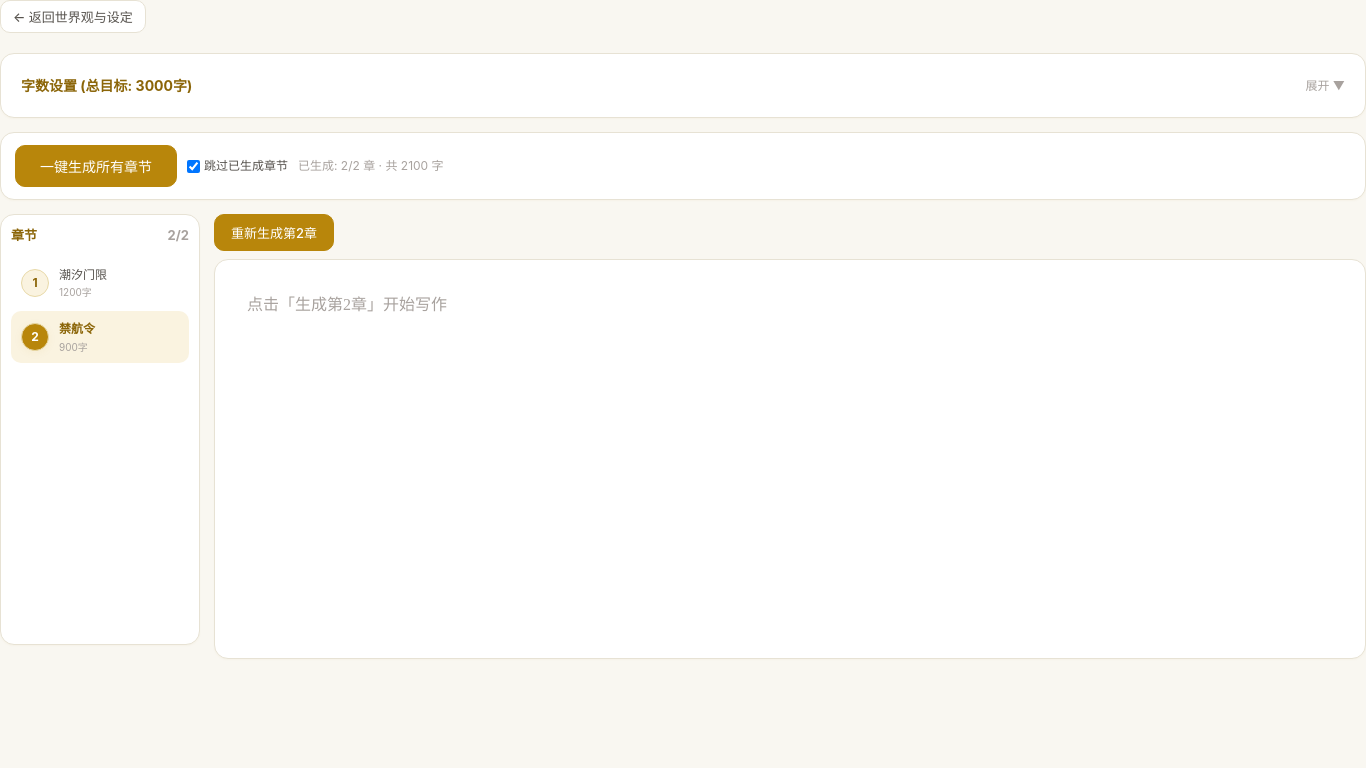
Scenario: ChapterWriter legacy compatibility characterization › drops a late chapter detail response after a newer chapter selection
This screenshot has width=1366, height=768.
Check: the text "禁航令" is shown, box x1=59 y1=321 x2=95 y2=336
Click the text "潮汐门限": coordinates (83, 274) x1=59 y1=266 x2=107 y2=282
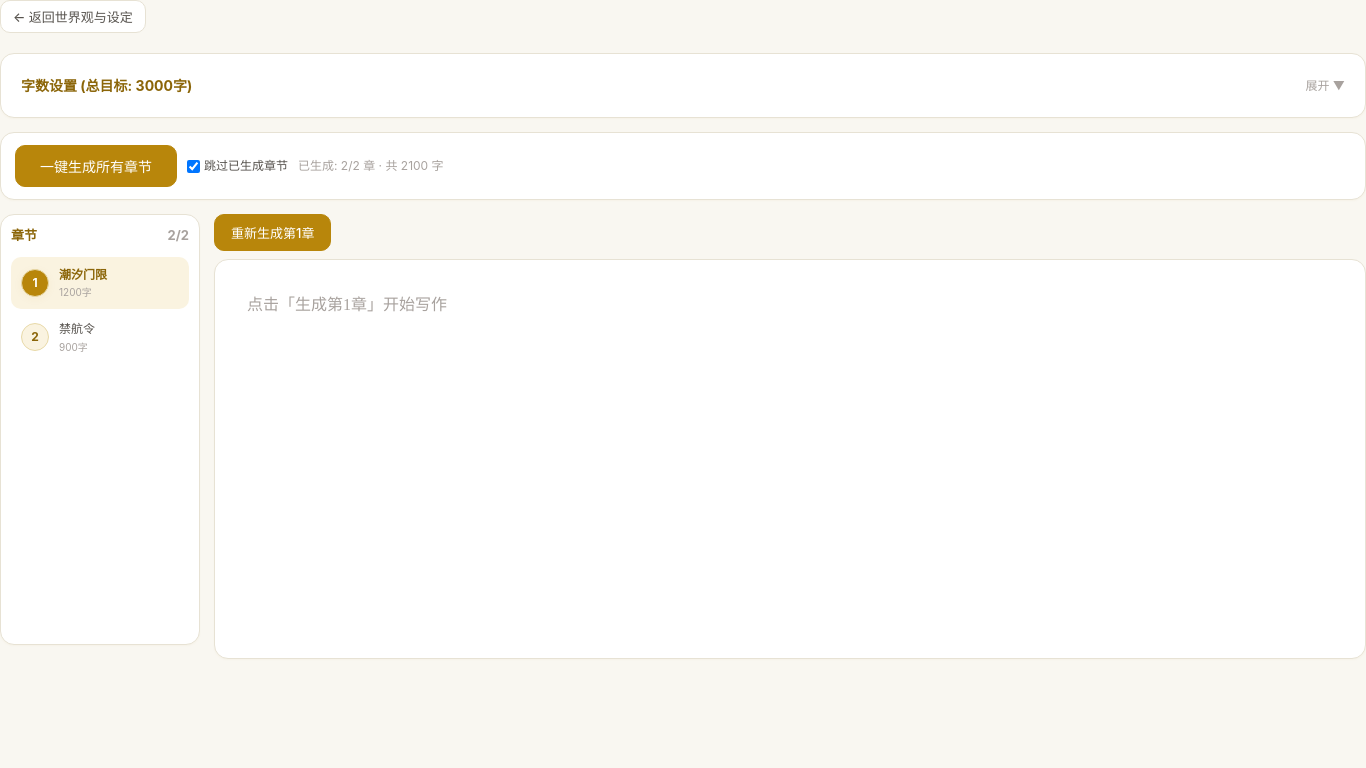
Click the text "禁航令": coordinates (77, 328) x1=59 y1=321 x2=95 y2=336
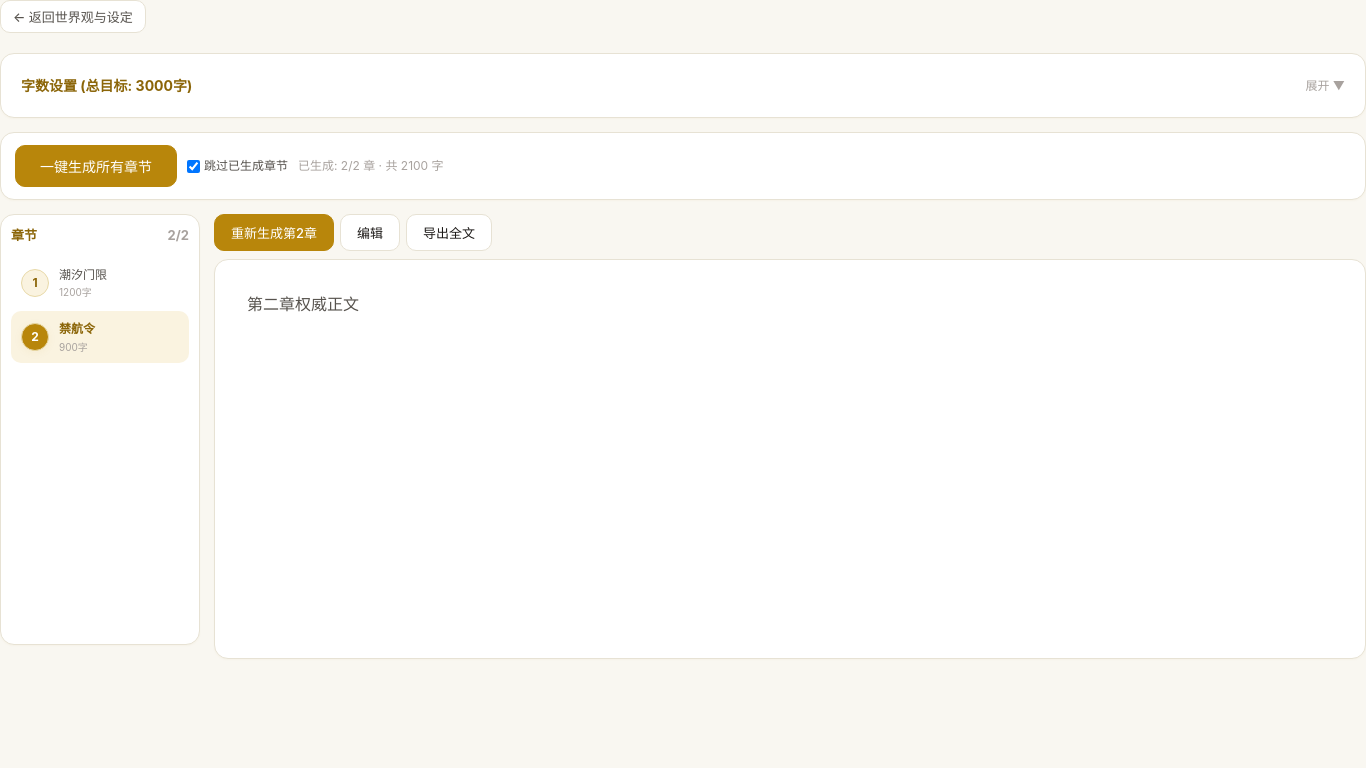
Check: the text "第二章权威正文" is shown, box x1=214 y1=259 x2=1365 y2=659
Click the button "编辑": coordinates (370, 233) x1=340 y1=214 x2=400 y2=251
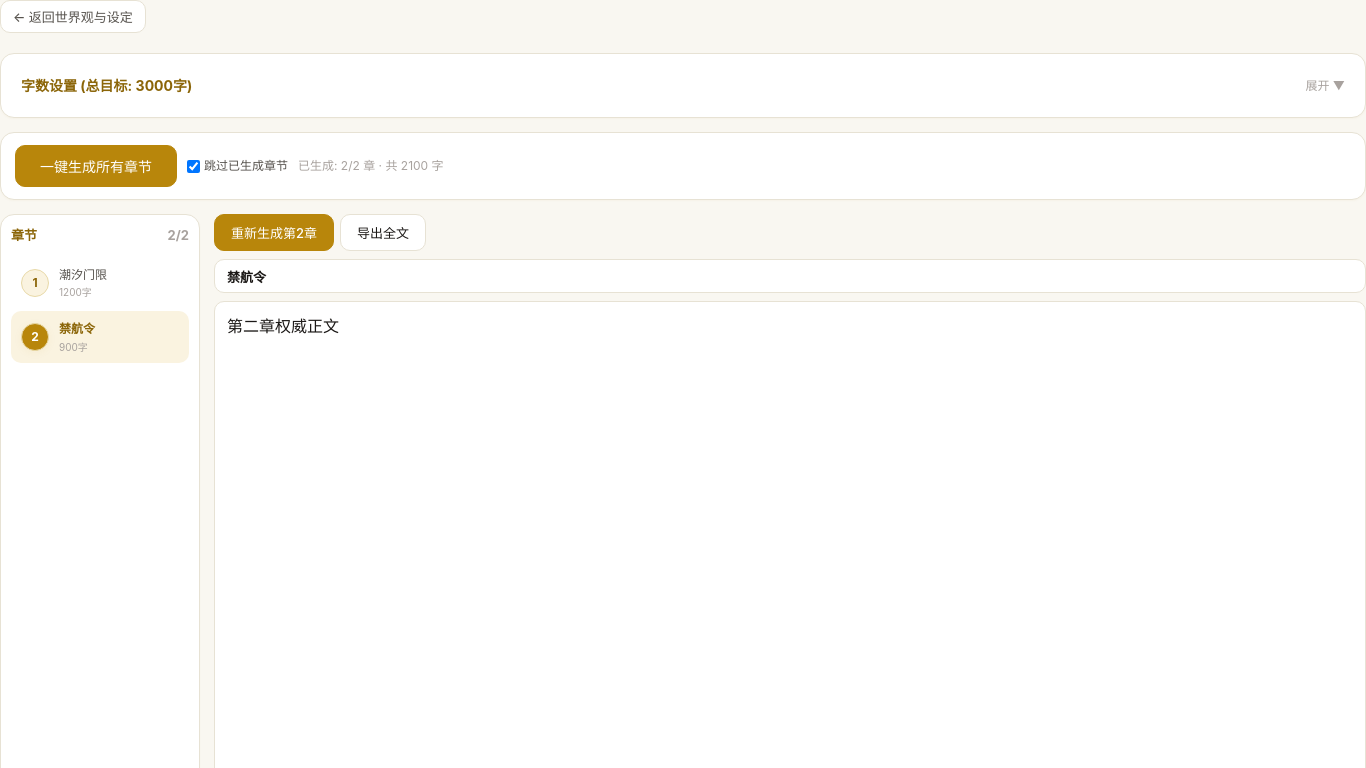
Check: the field showing "禁航令" is shown, box x1=214 y1=259 x2=1365 y2=293
